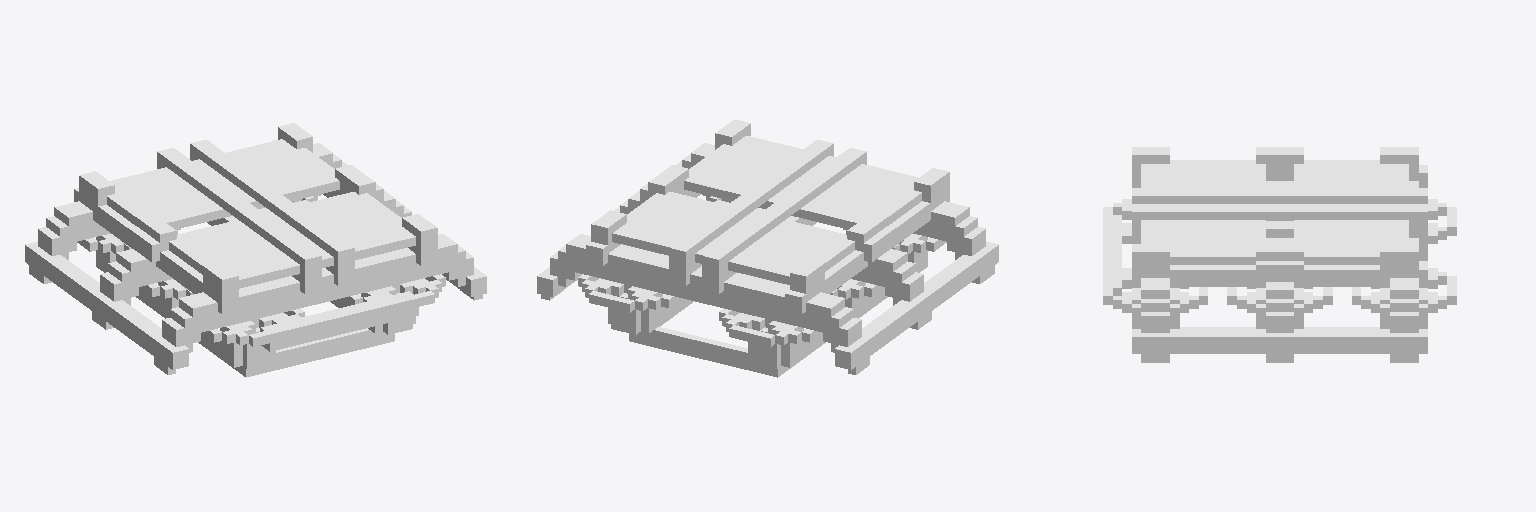
Rendered from minion_drone.obj.
3 views of the same model, side by side, from view 1: azimuth 30°, elevation 25°; view 2: azimuth 150°, elevation 25°; view 3: azimuth 270°, elevation 25° (orthographic).
Visible parts, largest first — view 1: minion_drone; view 2: minion_drone; view 3: minion_drone.
Part boxes in pixels (x1,y1,x2,y2): minion_drone: (25, 123, 486, 377); minion_drone: (537, 119, 998, 377); minion_drone: (1103, 147, 1456, 362).
Size of the model in its own units: 38 by 13 by 37.